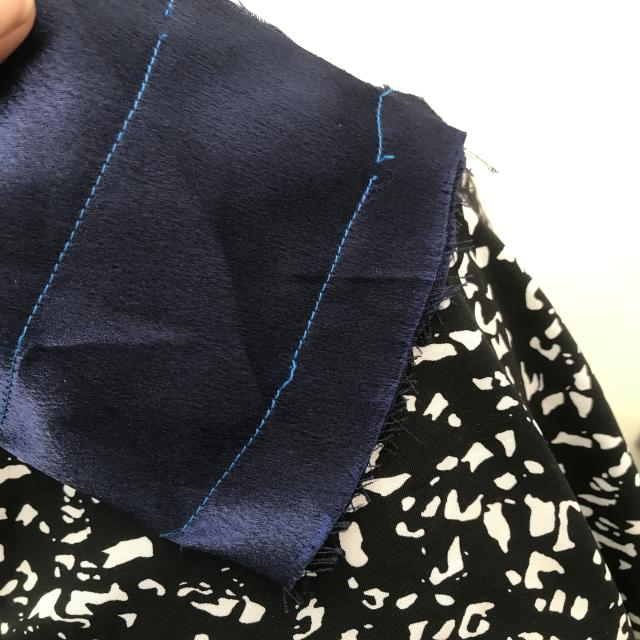broken: (353, 143, 423, 187), (146, 5, 193, 46)
skip: (251, 344, 315, 396)
